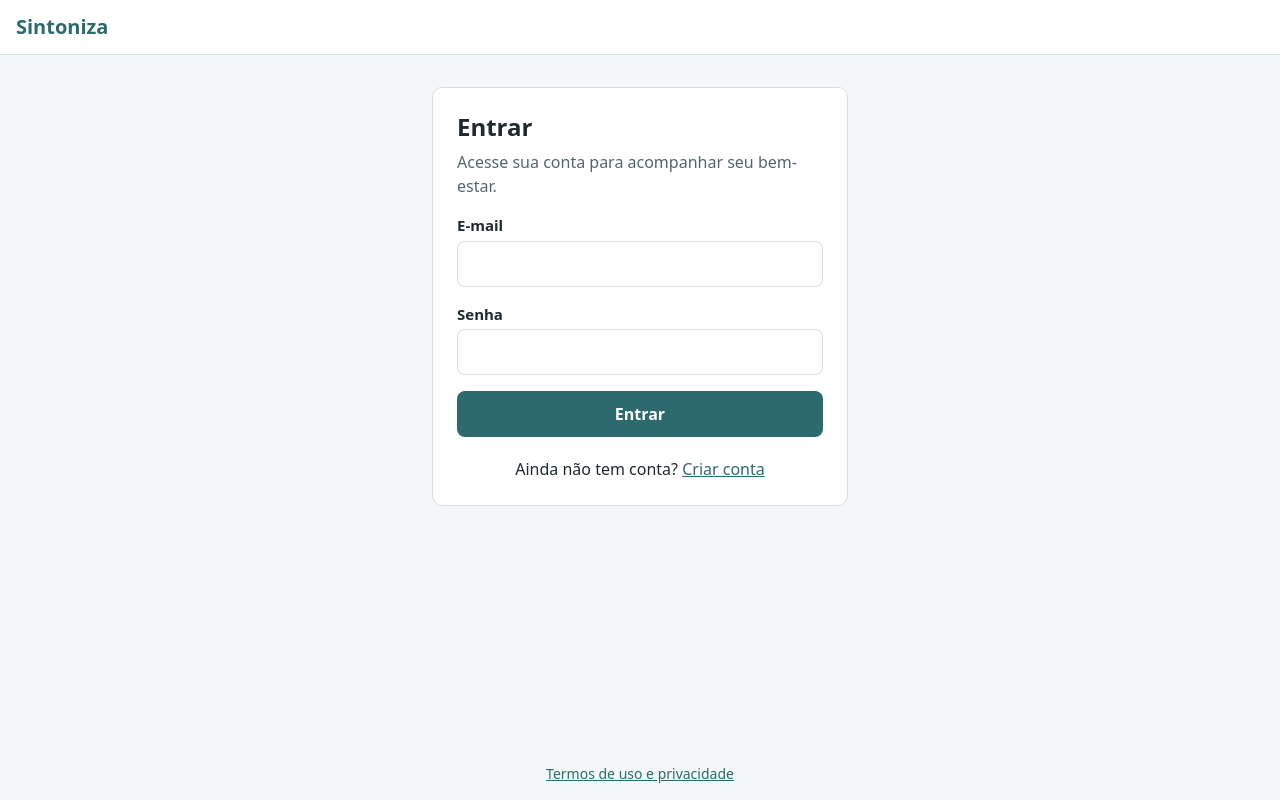
Test: authentication flow › shows an error for invalid credentials
Type "ana@example.com" into the field labelled "E-mail" at (640, 264), box [457,240,823,286]
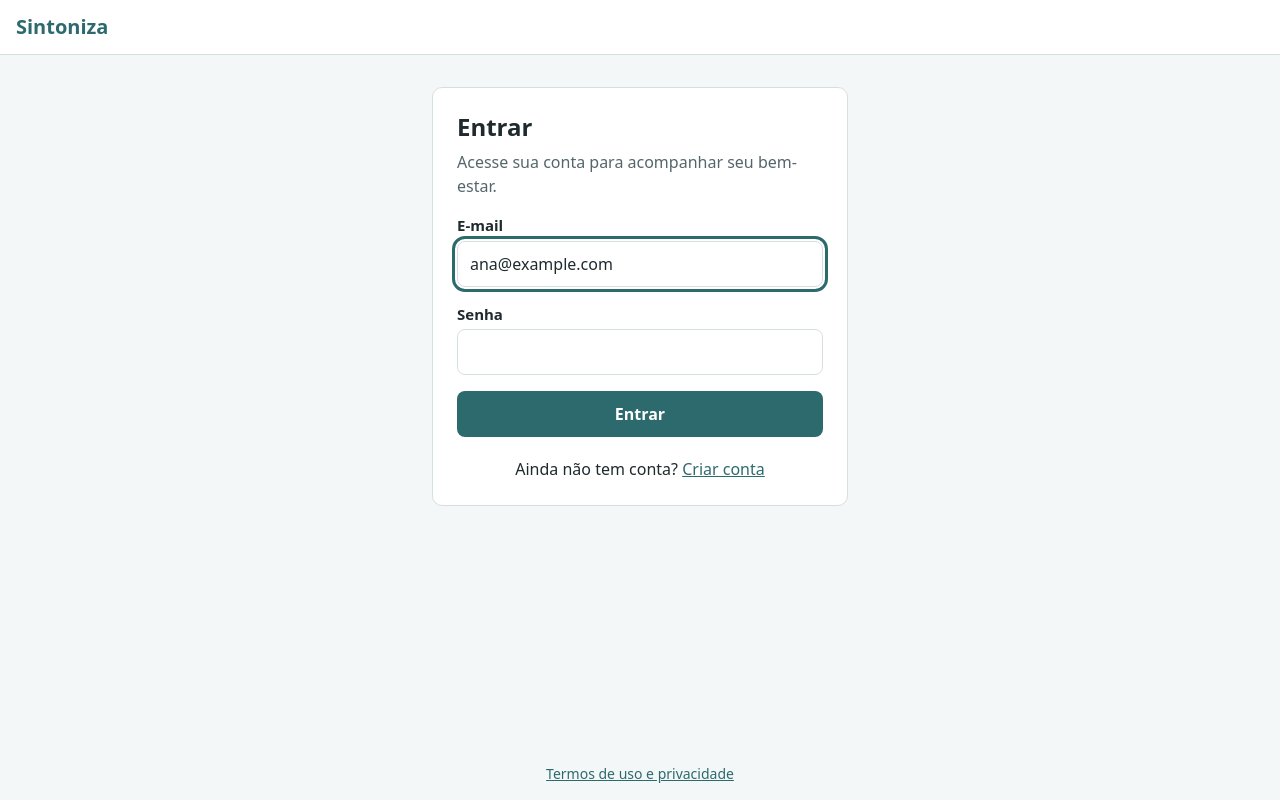
Type "senha-errada" into the password field labelled "Senha" at (640, 352), box [457,329,823,375]
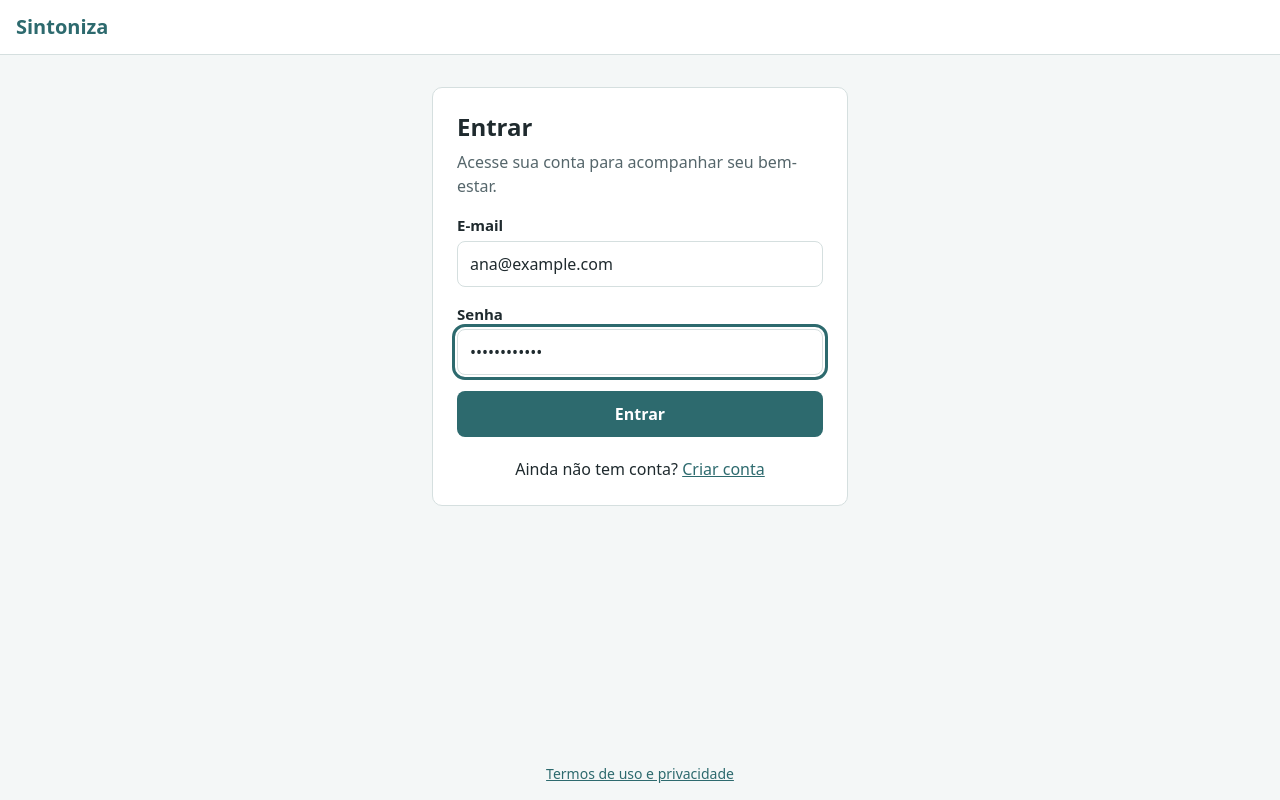
Click the button "Entrar" at (640, 414), box [457,391,823,437]
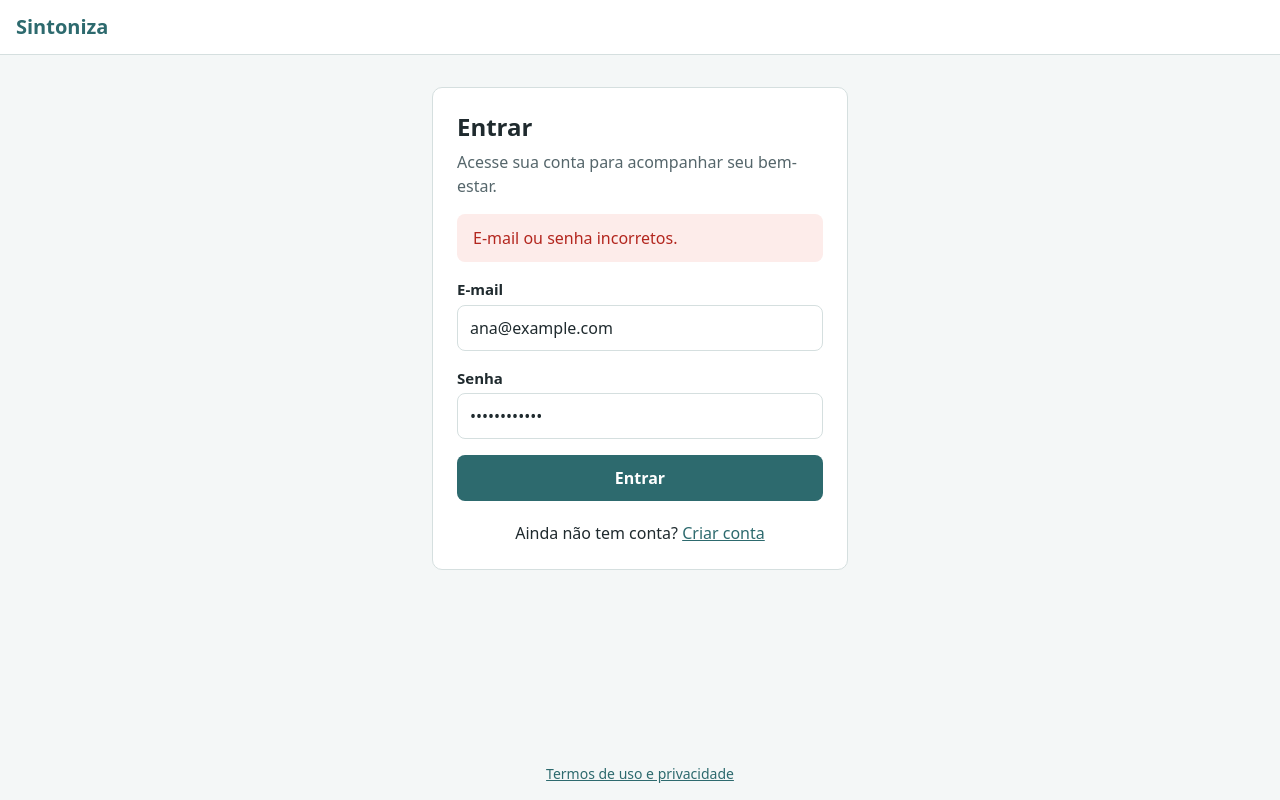
Result: the message reads "E-mail ou senha incorretos." at [473,227,677,249]
